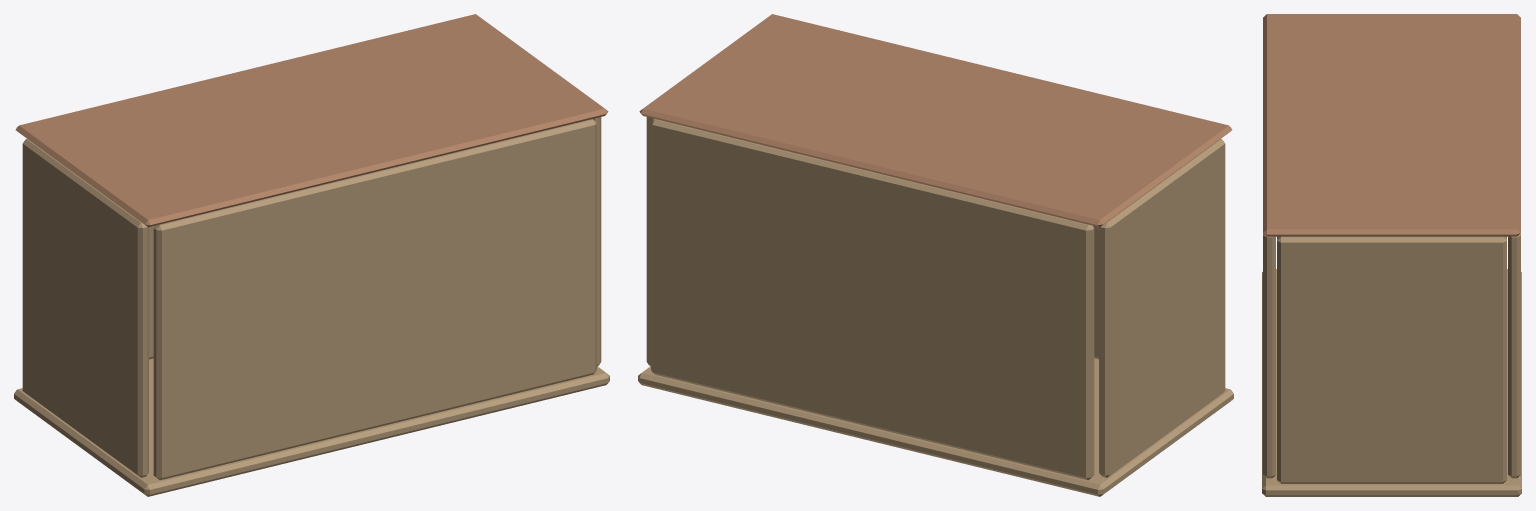
File: trough.glb
The picture shows the model from 3 angles, left to right: view 1: azimuth 30°, elevation 25°; view 2: azimuth 150°, elevation 25°; view 3: azimuth 270°, elevation 25°; orthographic projection. The views are drawn at different scales.
Visible parts, largest first — view 1: trough; view 2: trough; view 3: trough.
Part boxes in pixels (x1,y1,x2,y2): trough: [14, 14, 609, 496]; trough: [638, 14, 1233, 496]; trough: [1262, 14, 1521, 496].
Bounding box in the file's own units: 2 × 1.13 × 1.
